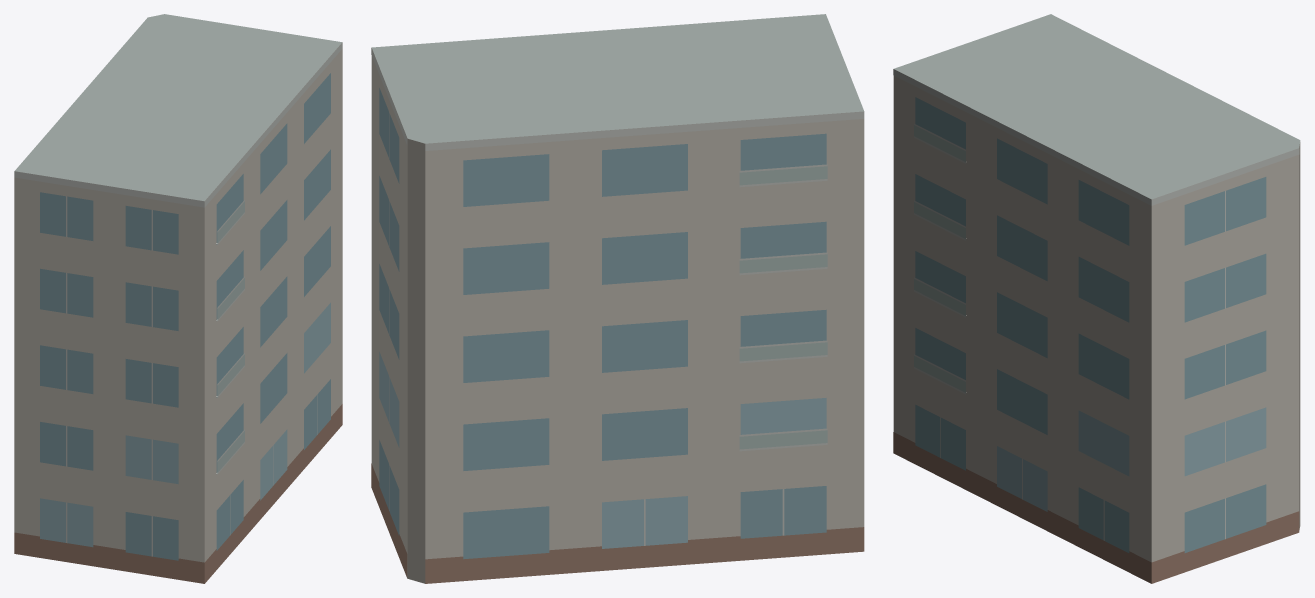
Rendered from survey-upis-32961379.glb.
3 renders of one model, left to right at view 1: azimuth 30°, elevation 25°; view 2: azimuth 150°, elevation 25°; view 3: azimuth 270°, elevation 25°, orthographic. The views are drawn at different scales.
Parts seen in each view (by area): view 1: survey-upis-32961379.tmp; view 2: survey-upis-32961379.tmp; view 3: survey-upis-32961379.tmp.
Boxes of the visible parts, left/top/right/bottom form: survey-upis-32961379.tmp: left=14, top=14, right=342, bottom=583; survey-upis-32961379.tmp: left=371, top=14, right=864, bottom=583; survey-upis-32961379.tmp: left=893, top=14, right=1300, bottom=583.
Bounding box in the file's own units: 15.06 × 14.55 × 13.97.
